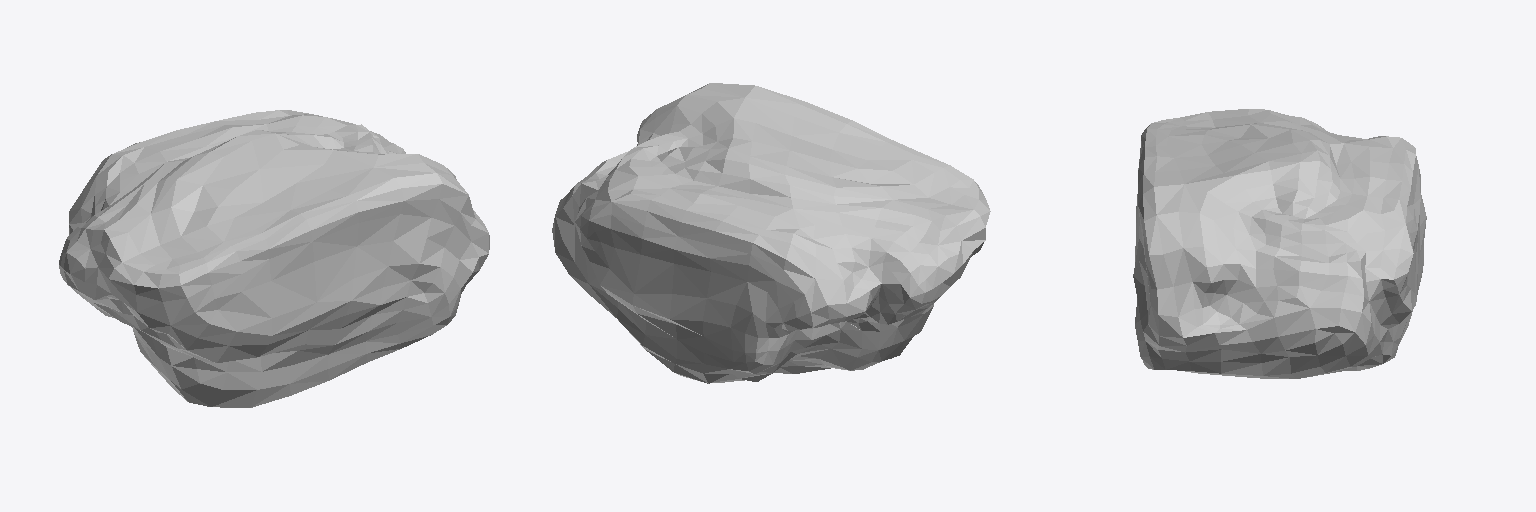
File: roca.obj
The picture shows the model from 3 angles: view 1: azimuth 30°, elevation 25°; view 2: azimuth 150°, elevation 25°; view 3: azimuth 270°, elevation 25°; orthographic projection.
Parts seen in each view (by area): view 1: Rock_1; view 2: Rock_1; view 3: Rock_1.
Boxes of the visible parts, x1=… form: Rock_1: x1=59, y1=110, x2=489, y2=407; Rock_1: x1=552, y1=83, x2=990, y2=383; Rock_1: x1=1133, y1=109, x2=1426, y2=378.
Bounding box in the file's own units: 2.24 × 1.24 × 1.53.